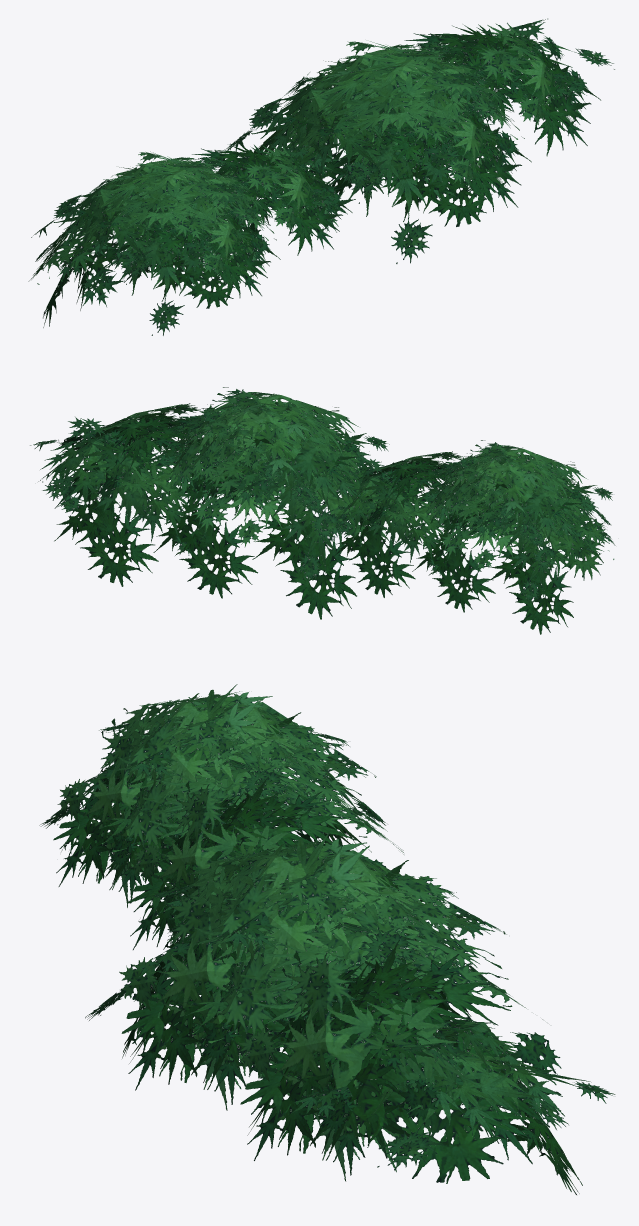
The model's file is Area_08_26.fbx.
3 views of the same model, one above another, from view 1: azimuth 30°, elevation 25°; view 2: azimuth 150°, elevation 25°; view 3: azimuth 270°, elevation 25° (orthographic). The views are drawn at different scales.
Parts seen in each view (by area): view 1: Area_08_26; view 2: Area_08_26; view 3: Area_08_26.
Part boxes in pixels (x1=…): Area_08_26: x1=28, y1=18, x2=614, y2=335; Area_08_26: x1=30, y1=387, x2=615, y2=634; Area_08_26: x1=39, y1=684, x2=615, y2=1194.
Bounding box in the file's own units: 895 × 295 × 482.
